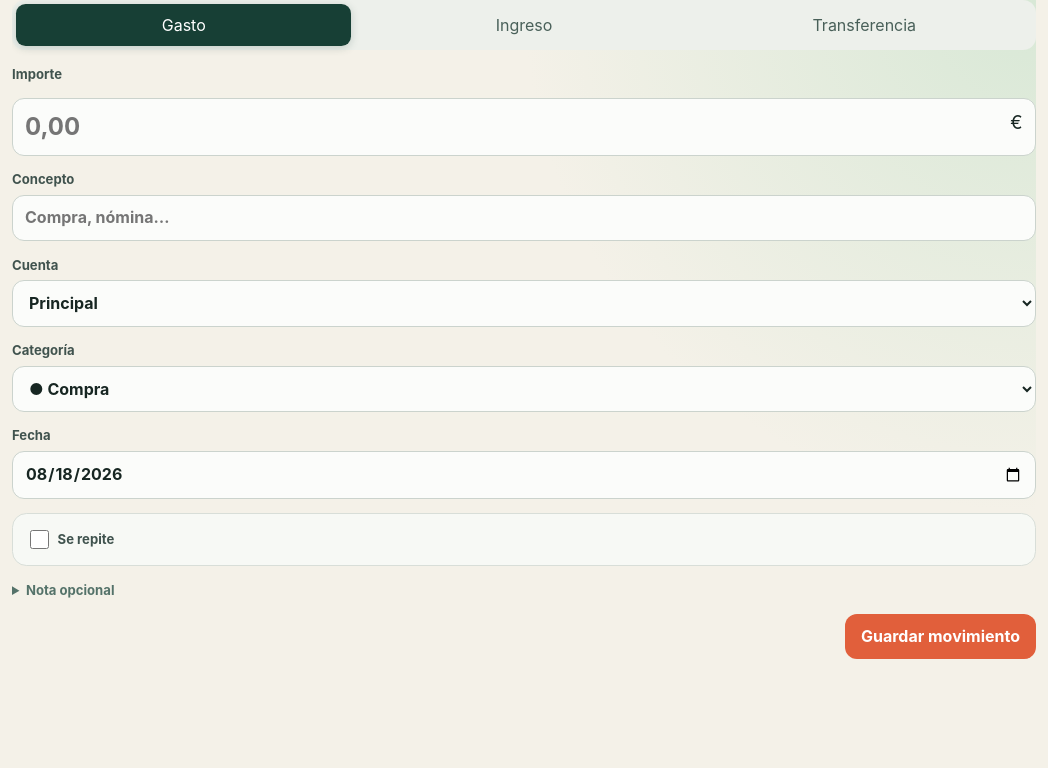
Test case: TransactionForm › reports invalid decimal precision accessibly
Step 1. Type "1,234" into the field labelled "Importe" → (524, 127), box x1=12 y1=98 x2=1036 y2=156
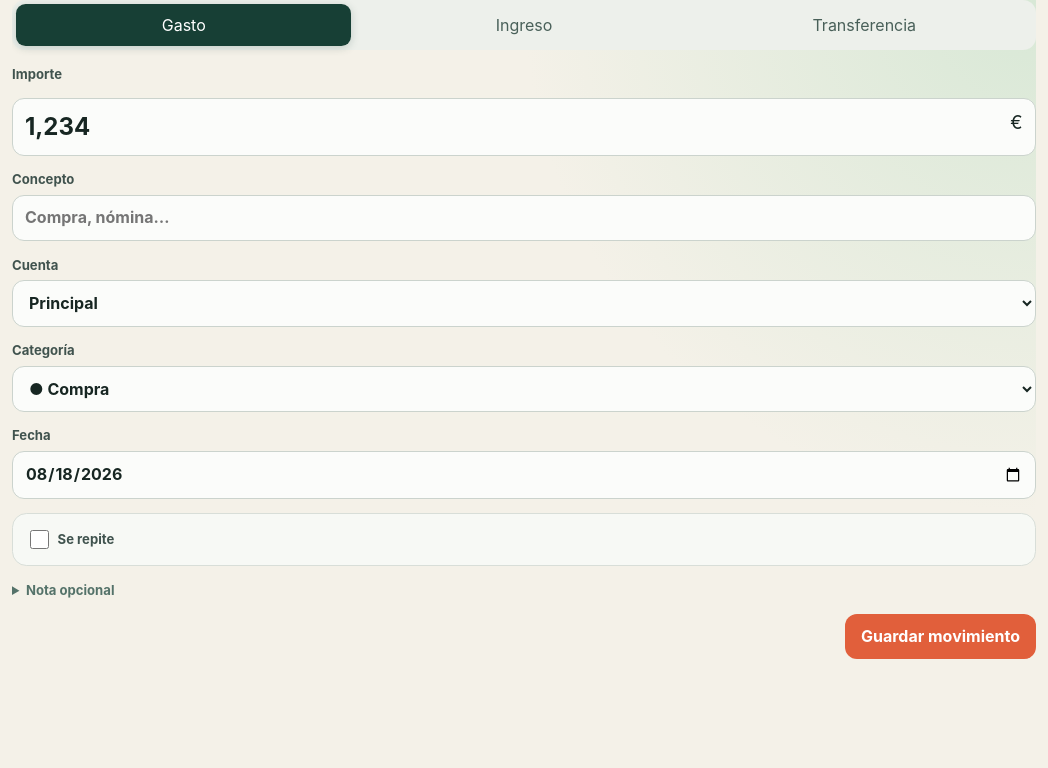
Step 2. Type "Compra" into the field labelled "Concepto" → (524, 218), box x1=12 y1=195 x2=1036 y2=241
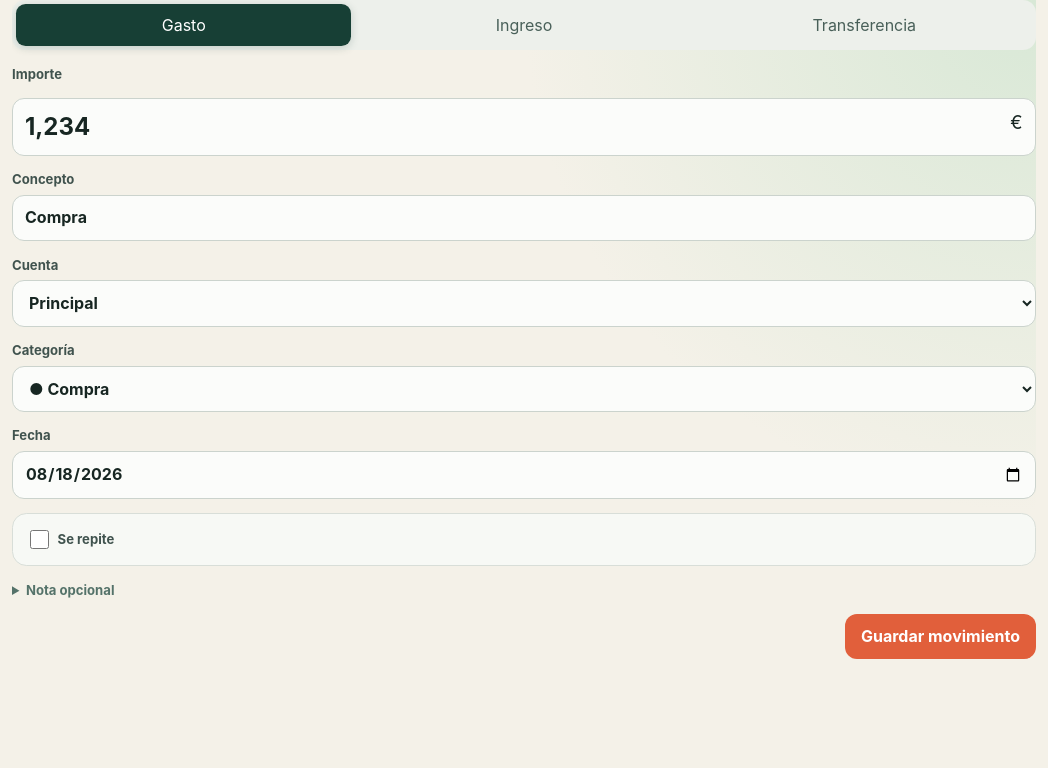
Step 3. Click the button "Guardar movimiento" → click(940, 636), box x1=845 y1=614 x2=1036 y2=659
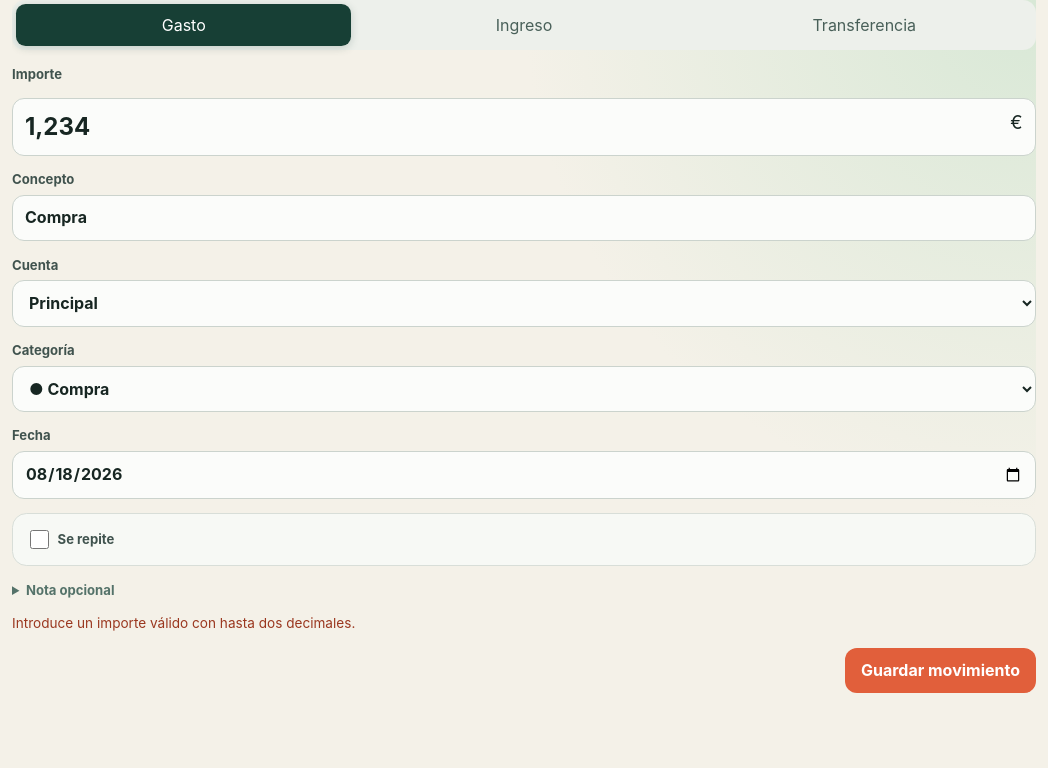
Expected: the message shows "importe válido", x1=12 y1=615 x2=355 y2=631
